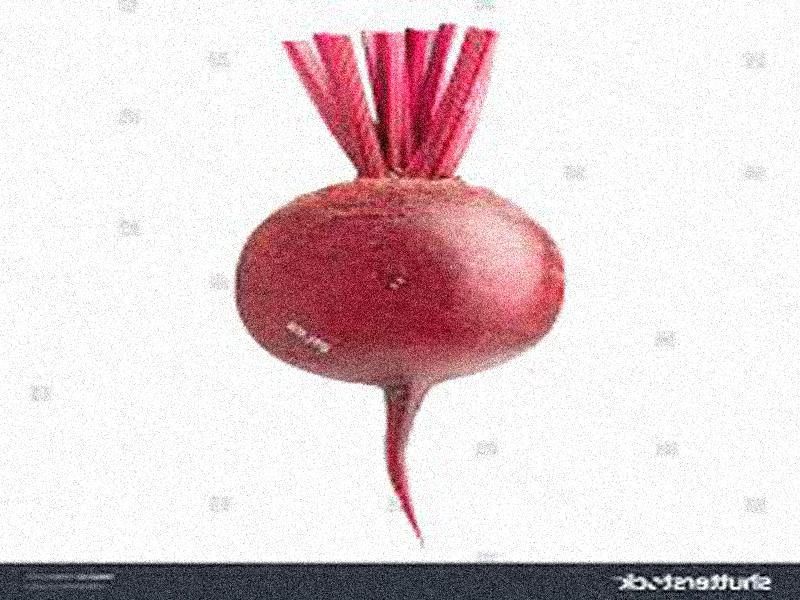Beet: (235, 26, 563, 548)
